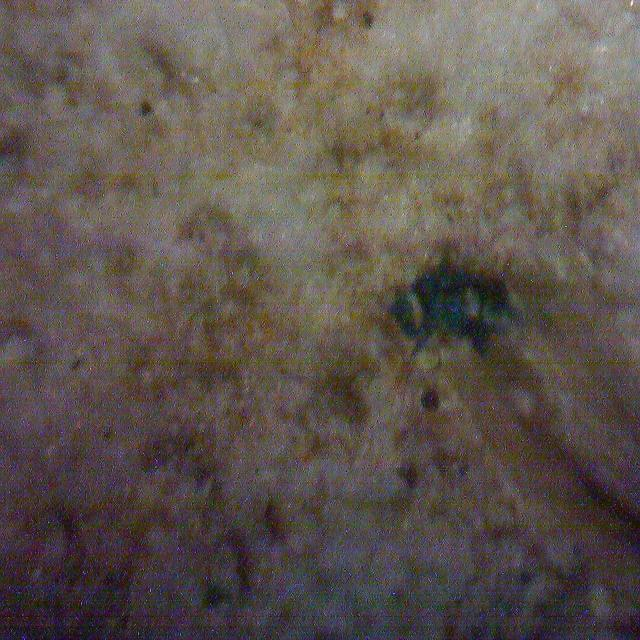microplastic: (389, 273, 515, 354)
